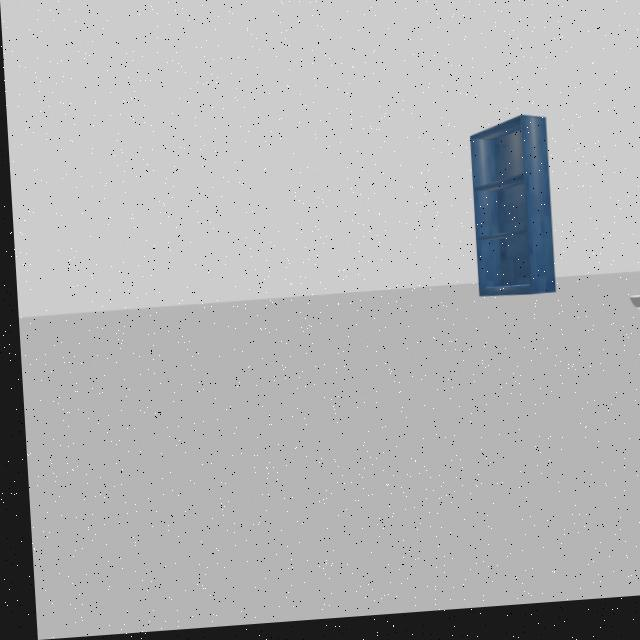bowl: (614, 293, 640, 329)
shelf: (446, 103, 567, 324)
